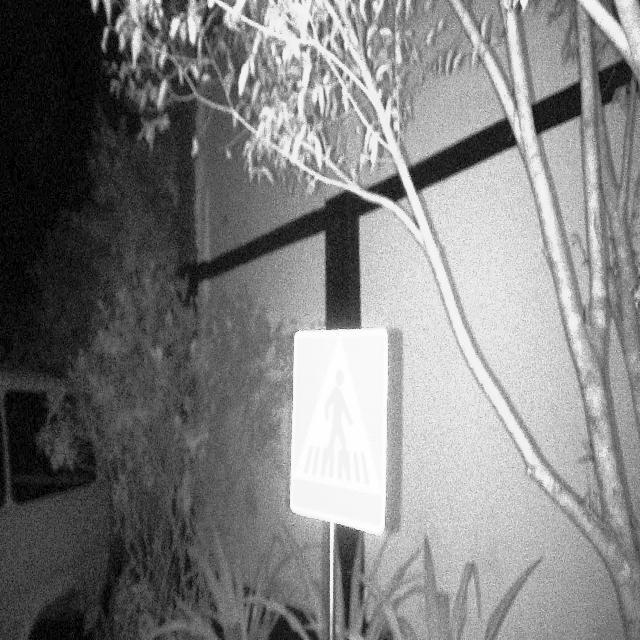Sign: (289, 326, 391, 537)
Tree: (402, 2, 639, 640)
